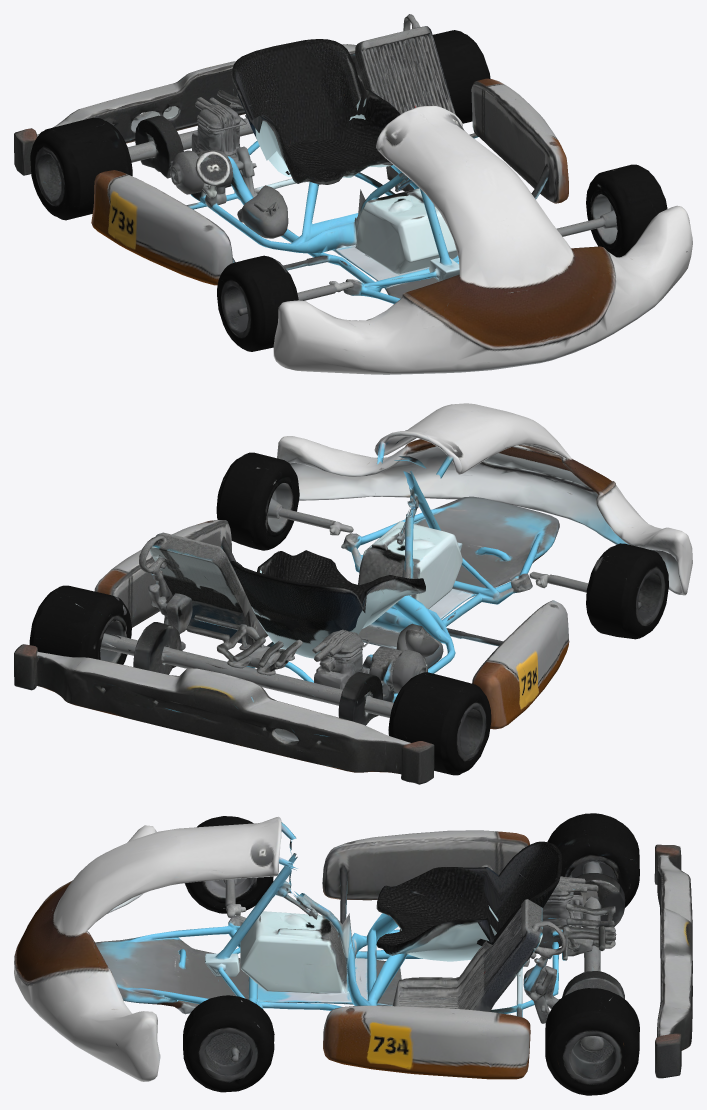
File: meshy.glb
3 views of the same model, one above another, from view 1: azimuth 30°, elevation 25°; view 2: azimuth 150°, elevation 25°; view 3: azimuth 270°, elevation 25° (orthographic).
Parts seen in each view (by area): view 1: body, wheelRL, wheelFL, wheelFR, wheelRR; view 2: body, wheelRL, wheelFL, wheelFR, wheelRR; view 3: body, wheelRR, wheelFR, wheelRL, wheelFL.
Part boxes in pixels (box(x1,y1,x2,y2)): body: box(14, 14, 692, 374); wheelRL: box(30, 117, 132, 220); wheelFL: box(217, 255, 353, 351); wheelFR: box(556, 164, 667, 257); wheelRR: box(432, 30, 490, 123); body: box(14, 403, 692, 784); wheelRL: box(388, 672, 491, 775); wheelFL: box(529, 543, 668, 639); wheelFR: box(216, 452, 353, 550); wheelRR: box(29, 585, 131, 664); body: box(14, 816, 692, 1081); wheelRR: box(545, 988, 639, 1095); wheelFR: box(183, 995, 274, 1092); wheelRL: box(547, 813, 639, 907); wheelFL: box(185, 816, 273, 917).
Bounding box in the file's own units: 1.58 × 0.6241 × 2.2.
1 material, 1 textured.
